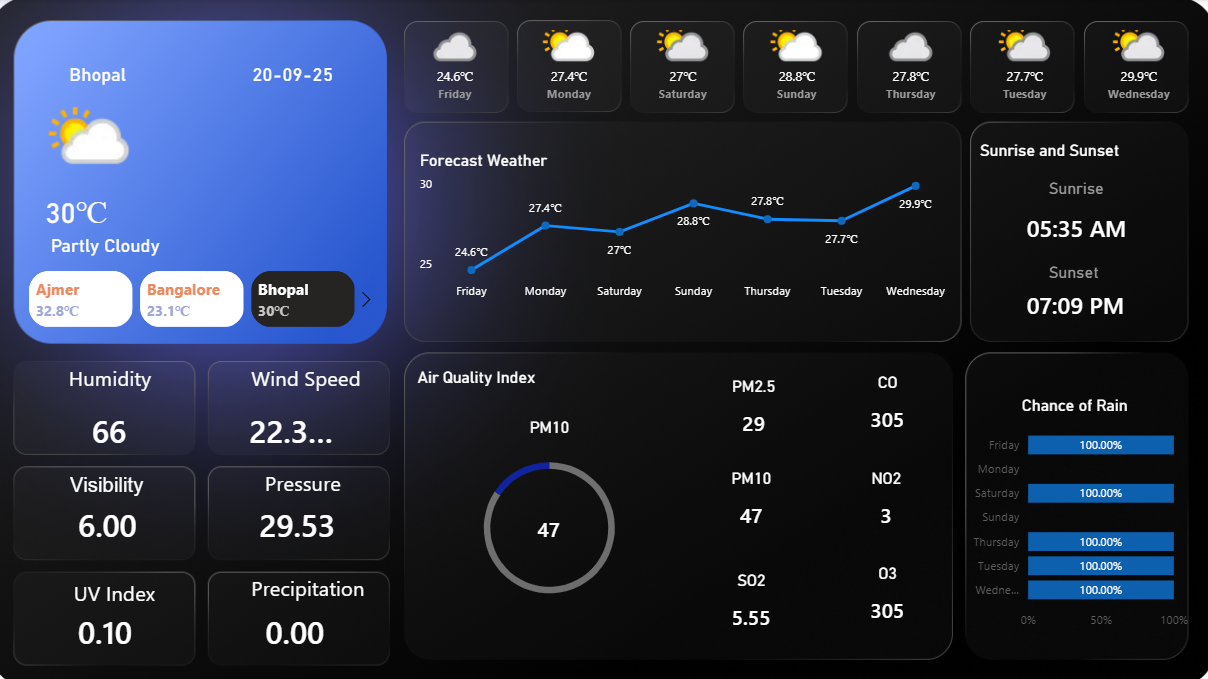

This screenshot's page, from the dashboard's own definition file:
{"tool":"powerbi","page":{"name":"Page 1","canvas":[1280,720],"ordinal":0},"visuals":[{"type":"advancedSlicerVisual","fields":{"Values":["Location.location.name"]},"box":[17.1,279.4,392.1,68.4],"z":0},{"type":"card","fields":{"Values":["_Measures.curr_Temp_c"]},"box":[0,187,182.5,70.9],"z":1000},{"type":"card","fields":{"Values":["Min(current.current.condition.text)"]},"box":[31.7,226.2,181,63.3],"z":2000},{"type":"card","fields":{"Values":["Min(current.location.name)"]},"box":[0,46.7,227.7,63.3],"z":3000},{"type":"card","fields":{"Values":["_Measures.Last_updated_date_cur"]},"box":[227.7,46.7,181,63.3],"z":4000},{"type":"cardVisual","fields":{"Data":["_Measures.Last_updated_date_cur"]},"box":[26.7,93.5,171.4,109.1],"z":5000},{"type":"textbox","box":[80.2,490.8,102.3,41.5],"z":6000},{"type":"textbox","box":[78.8,376.1,124.4,51.2],"z":7000},{"type":"textbox","box":[269.3,376.4,138.9,45.2],"z":8000},{"type":"textbox","box":[282.7,485.1,112.1,51.9],"z":9000},{"type":"textbox","box":[83.6,600.6,115.4,46.8],"z":10000},{"type":"textbox","box":[269.3,595.6,138.9,51.9],"z":11000},{"type":"cardVisual","fields":{"Data":["Sum(current.current.pressure_in)"]},"box":[253,511.6,156.2,71.9],"z":12000},{"type":"cardVisual","fields":{"Data":["_Measures.wind_speed_kmp"]},"box":[243.3,413.4,175.6,70.5],"z":13000},{"type":"cardVisual","fields":{"Data":["Sum(current.current.vis_km)"]},"box":[63.6,511.6,156.2,71.9],"z":14000},{"type":"cardVisual","fields":{"Data":["Sum(current.current.precip_in)"]},"box":[259.9,623.5,156.2,71.9],"z":15000},{"type":"cardVisual","fields":{"Data":["Sum(current.current.uv)"]},"box":[63.6,623.5,156.2,71.9],"z":16000},{"type":"cardVisual","fields":{"Data":["Sum(current.current.humidity)"]},"box":[78.8,413.4,156.2,71.9],"z":17000},{"type":"advancedSlicerVisual","fields":{"Values":["forecast_day.Day_Formated"]},"box":[432.4,25.9,827.5,99.1],"z":18000},{"type":"lineChart","title":"Forecast Weather","fields":{"Y":["Sum(forecast_day.forecast.forecastday.day.avgtemp_c)"],"Category":["forecast_day.Day_Formated"]},"box":[445.3,158,564.6,165.2],"z":19000},{"type":"cardVisual","fields":{"Data":["Min(forecast_day.sunrise_date)"]},"box":[1054.5,199.7,182.4,76.1],"z":20000},{"type":"cardVisual","fields":{"Data":["Min(forecast_day.sunset_date)"]},"box":[1054.5,280.1,173.8,76.1],"z":21000},{"type":"textbox","title":"Sunrise","box":[1101.9,188.2,116.4,74.7],"z":22000},{"type":"textbox","title":"Sunset","box":[1101.9,275.8,116.4,74.7],"z":23000},{"type":"textbox","title":"Sunrise and Sunset","box":[1030,148,198.2,28.7],"z":24000},{"type":"hundredPercentStackedBarChart","title":"Chance of Rain","fields":{"Y":["Sum(forecast_day.forecast.forecastday.day.daily_chance_of_rain)"],"Category":["forecast_day.Day_Formated"]},"box":[1009.9,413.7,247.1,252.8],"z":25000},{"type":"textbox","title":"Air Quality Index","box":[442.5,385,198.2,28.7],"z":26000},{"type":"cardVisual","title":"CO","fields":{"Data":["Sum(current.current.air_quality.co)"]},"box":[847.6,390.8,182.4,76.1],"z":27000},{"type":"cardVisual","title":"NO2","fields":{"Data":["Sum(current.current.air_quality.no2)"]},"box":[846.2,491.3,182.4,76.1],"z":28000},{"type":"cardVisual","title":"PM2.5","fields":{"Data":["Sum(current.current.air_quality.pm2_5)"]},"box":[706.8,393.6,182.4,76.1],"z":29000},{"type":"cardVisual","title":"PM10","fields":{"Data":["Sum(current.current.air_quality.pm10)"]},"box":[705.4,491.3,182.4,76.1],"z":30000},{"type":"cardVisual","title":"O3","fields":{"Data":["Sum(current.current.air_quality.co)"]},"box":[847.6,590.4,182.4,76.1],"z":31000},{"type":"cardVisual","title":"SO2","fields":{"Data":["Sum(current.current.air_quality.so2)"]},"box":[705.4,596.2,182.4,76.1],"z":32000},{"type":"donutChart","title":"PM10","fields":{"Y":["_Measures.Left_value_pm10","Sum(current.current.air_quality.pm10)"]},"box":[431.9,436.7,306.4,211.1],"z":32001},{"type":"cardVisual","title":"PM10","fields":{"Data":["Sum(current.current.air_quality.pm10)"]},"box":[493.3,514.2,182.7,75.7],"z":32002}]}

Visuals, with their boxes in screenshot pixels (x1, y1, x2, y2), scaled from the page's 1280x720 canvas onto the 1208x679 screenshot:
advancedSlicerVisual - Location.location.name: bbox=(16, 263, 386, 328)
card - _Measures.curr_Temp_c: bbox=(0, 176, 172, 243)
card - Min(current.current.condition.text): bbox=(30, 213, 201, 273)
card - Min(current.location.name): bbox=(0, 44, 215, 104)
card - _Measures.Last_updated_date_cur: bbox=(215, 44, 386, 104)
cardVisual - _Measures.Last_updated_date_cur: bbox=(25, 88, 187, 191)
textbox: bbox=(76, 463, 172, 502)
textbox: bbox=(74, 355, 192, 403)
textbox: bbox=(254, 355, 385, 398)
textbox: bbox=(267, 457, 373, 506)
textbox: bbox=(79, 566, 188, 611)
textbox: bbox=(254, 562, 385, 611)
cardVisual - Sum(current.current.pressure_in): bbox=(239, 482, 386, 550)
cardVisual - _Measures.wind_speed_kmp: bbox=(230, 390, 395, 456)
cardVisual - Sum(current.current.vis_km): bbox=(60, 482, 207, 550)
cardVisual - Sum(current.current.precip_in): bbox=(245, 588, 393, 656)
cardVisual - Sum(current.current.uv): bbox=(60, 588, 207, 656)
cardVisual - Sum(current.current.humidity): bbox=(74, 390, 222, 458)
advancedSlicerVisual - forecast_day.Day_Formated: bbox=(408, 24, 1189, 118)
"Forecast Weather" lineChart: bbox=(420, 149, 953, 305)
cardVisual - Min(forecast_day.sunrise_date): bbox=(995, 188, 1167, 260)
cardVisual - Min(forecast_day.sunset_date): bbox=(995, 264, 1159, 336)
"Sunrise" textbox: bbox=(1040, 177, 1150, 248)
"Sunset" textbox: bbox=(1040, 260, 1150, 331)
"Sunrise and Sunset" textbox: bbox=(972, 140, 1159, 167)
"Chance of Rain" hundredPercentStackedBarChart: bbox=(953, 390, 1186, 629)
"Air Quality Index" textbox: bbox=(418, 363, 605, 390)
"CO" cardVisual: bbox=(800, 369, 972, 440)
"NO2" cardVisual: bbox=(799, 463, 971, 535)
"PM2.5" cardVisual: bbox=(667, 371, 839, 443)
"PM10" cardVisual: bbox=(666, 463, 838, 535)
"O3" cardVisual: bbox=(800, 557, 972, 629)
"SO2" cardVisual: bbox=(666, 562, 838, 634)
"PM10" donutChart: bbox=(408, 412, 697, 611)
"PM10" cardVisual: bbox=(466, 485, 638, 556)
